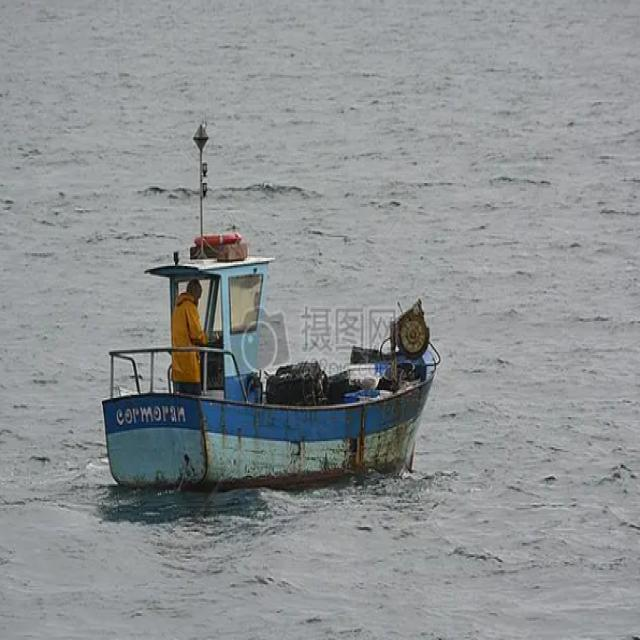fishing boat: (97, 216, 434, 488)
